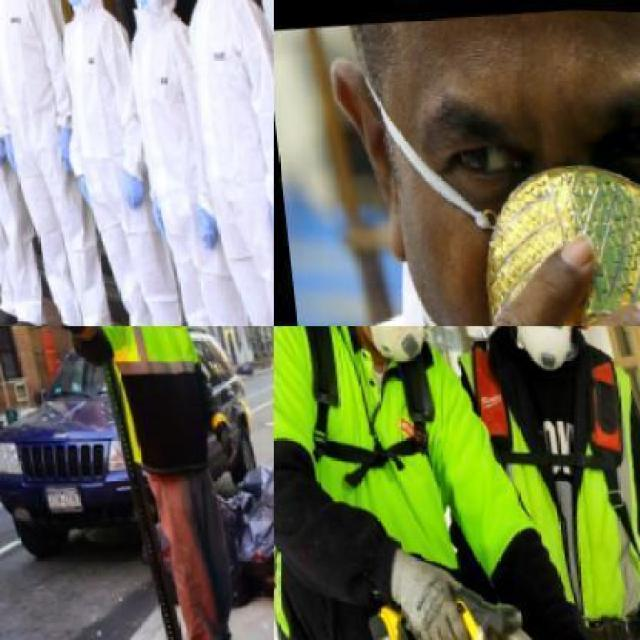Vest: (444, 326, 638, 639), (41, 0, 188, 325), (112, 0, 258, 325), (0, 0, 114, 318), (168, 0, 272, 325), (90, 326, 216, 483), (0, 0, 32, 301)
